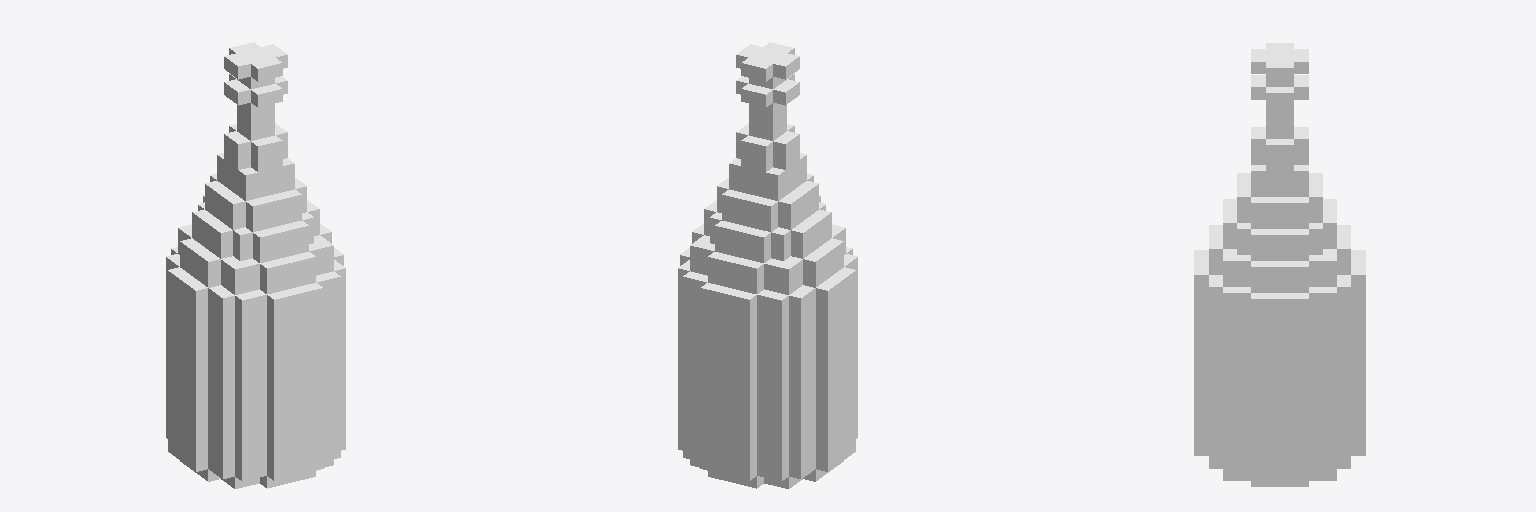
Rendered from liquor.obj.
3 renders of one model, left to right at view 1: azimuth 30°, elevation 25°; view 2: azimuth 150°, elevation 25°; view 3: azimuth 270°, elevation 25°, orthographic.
Visible parts, largest first — view 1: object 1; view 2: object 1; view 3: object 1.
Part boxes in pixels (left/top/right/bottom): object 1: left=166, top=42, right=345, bottom=488; object 1: left=678, top=42, right=857, bottom=488; object 1: left=1194, top=43, right=1365, bottom=486.
Size of the model in its own units: 1.2 by 3.1 by 1.2.